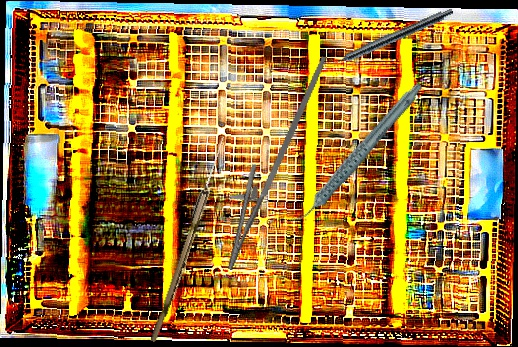Handpiece: (266, 80, 447, 227), (321, 4, 455, 73)
Needle Holder: (209, 42, 328, 279)
Surgical Spoon: (150, 135, 228, 344)
